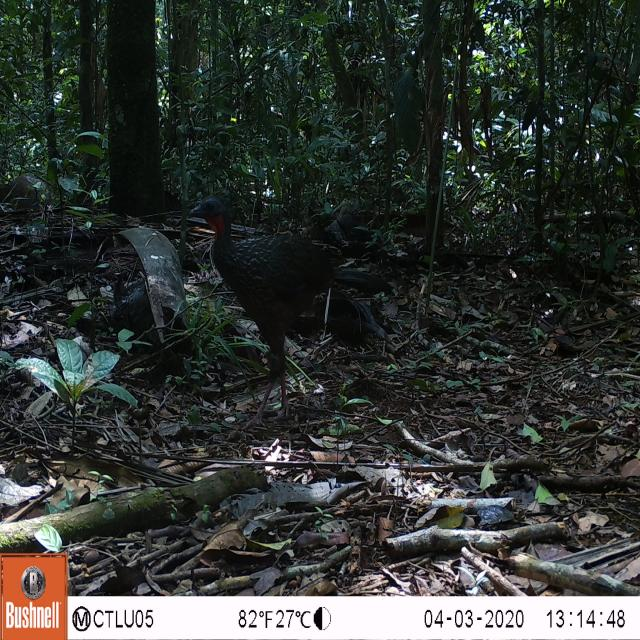Spixs Guan: (184, 184, 396, 428)
